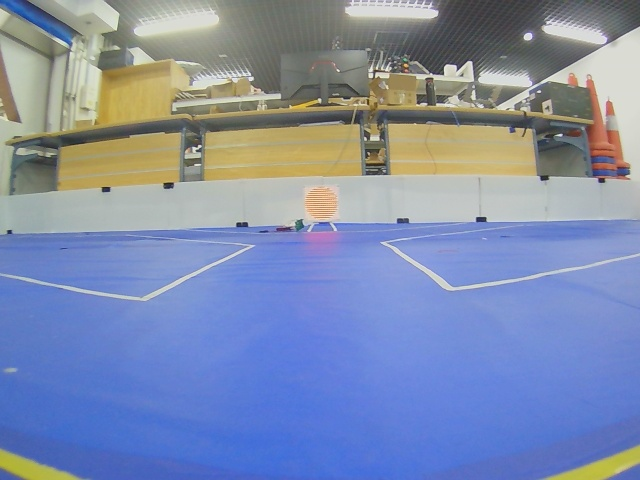red: (304, 186, 339, 222)
